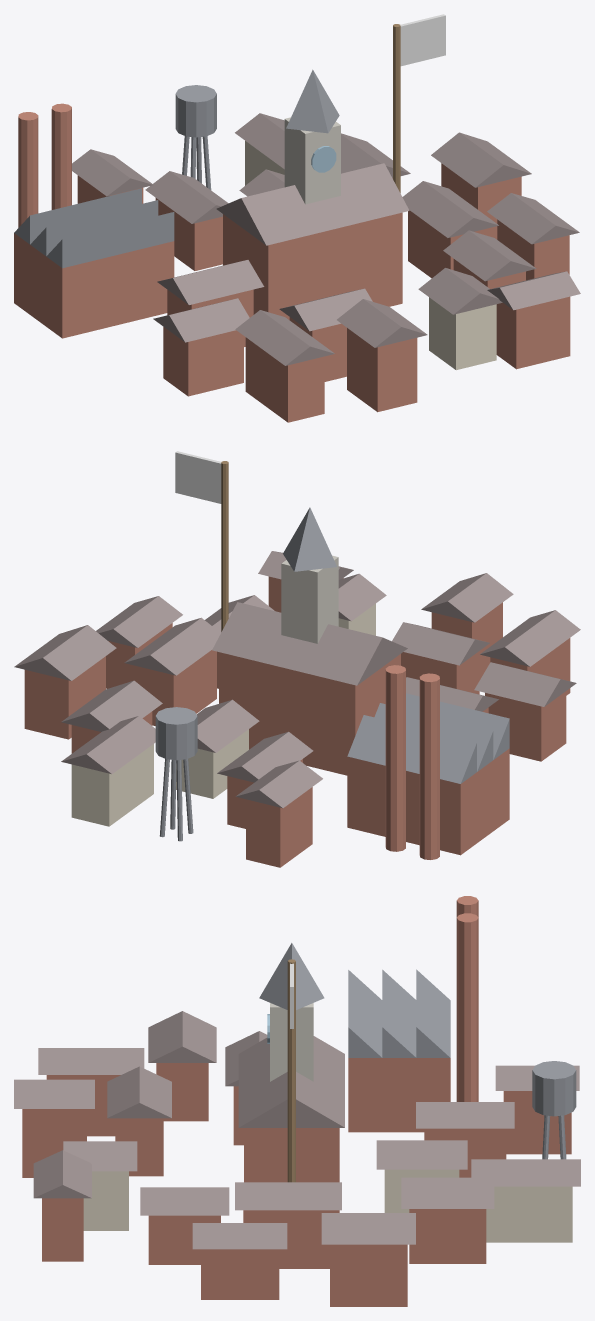
Rendered from civ_city_industrial_city.glb.
The picture shows the model from 3 angles, top to bottom: view 1: azimuth 30°, elevation 25°; view 2: azimuth 150°, elevation 25°; view 3: azimuth 270°, elevation 25°; orthographic projection. The views are drawn at different scales.
Visible parts, largest first — view 1: civ_city_industrial_city; view 2: civ_city_industrial_city; view 3: civ_city_industrial_city.
Boxes of the visible parts, bbox=[...] form: civ_city_industrial_city: bbox=[14, 14, 580, 422]; civ_city_industrial_city: bbox=[14, 451, 580, 867]; civ_city_industrial_city: bbox=[14, 896, 580, 1306].
Bounding box in the file's own units: 4.09 × 2.2 × 4.15.
